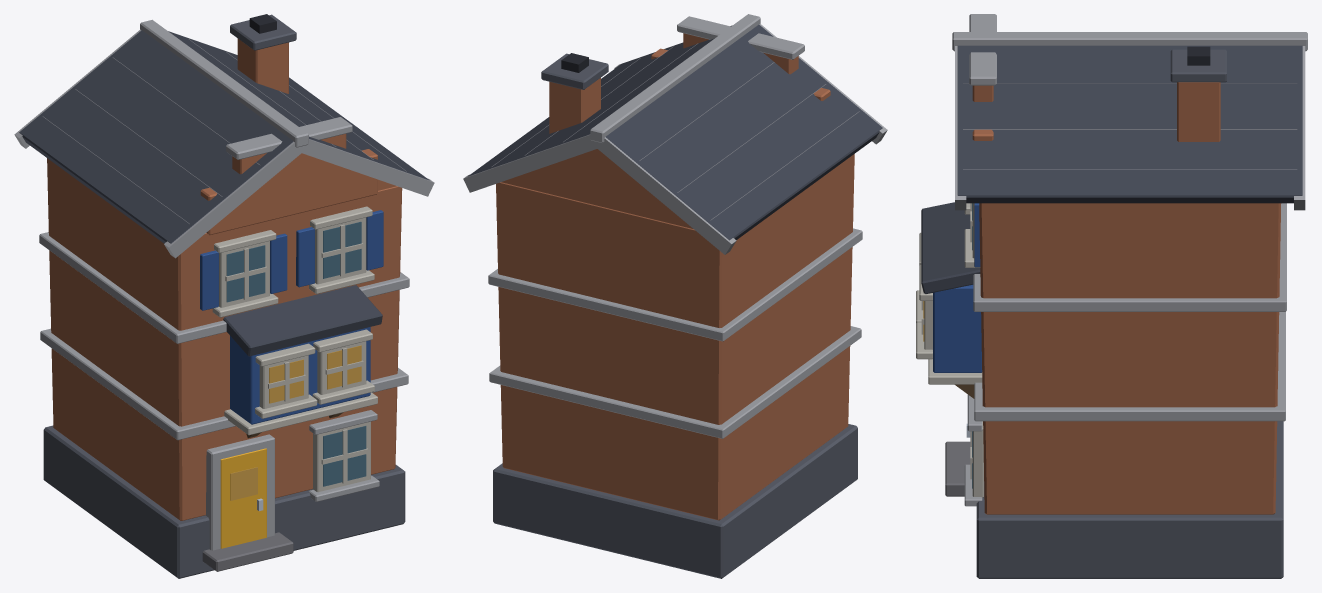
File: Stylized_Building_CanalHouse.fbx
3 views of the same model, side by side, from view 1: azimuth 30°, elevation 25°; view 2: azimuth 150°, elevation 25°; view 3: azimuth 270°, elevation 25° (orthographic). The views are drawn at different scales.
Parts seen in each view (by area): view 1: Stylized_Building_CanalHouse; view 2: Stylized_Building_CanalHouse; view 3: Stylized_Building_CanalHouse.
Part boxes in pixels (x1,y1,x2,y2): Stylized_Building_CanalHouse: [14, 14, 434, 578]; Stylized_Building_CanalHouse: [463, 14, 887, 578]; Stylized_Building_CanalHouse: [916, 14, 1307, 578].
Bounding box in the file's own units: 4.31 × 6.88 × 4.85.
